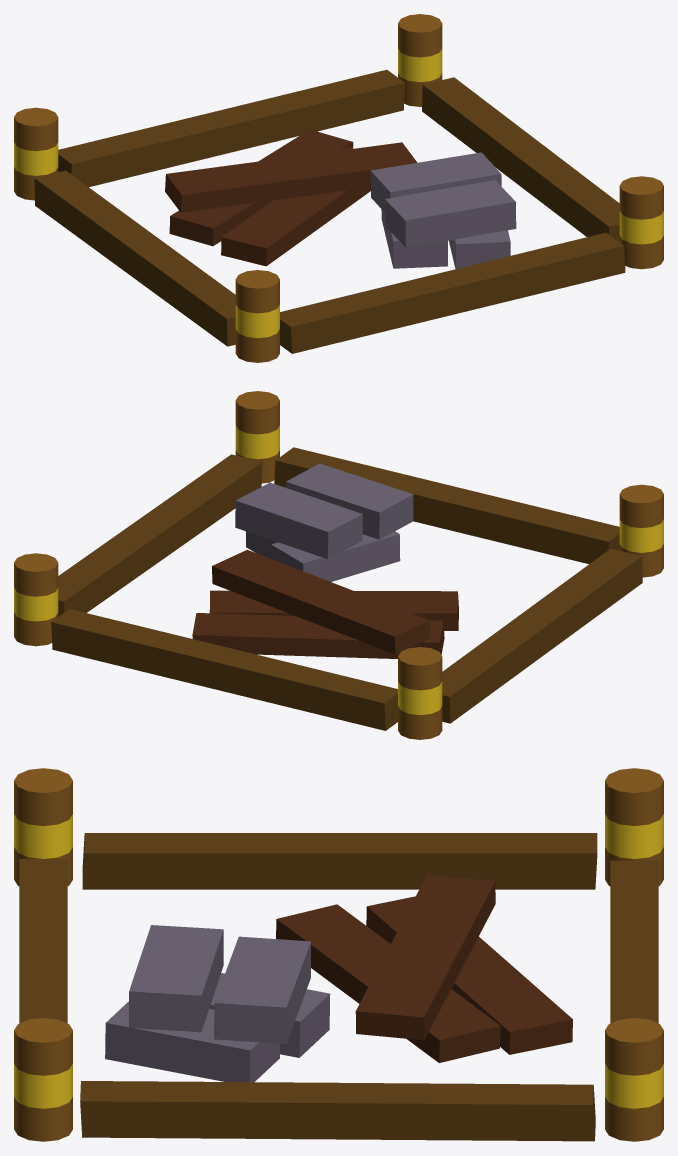
File: BuildingCamp.fbx
3 views of the same model, one above another, from view 1: azimuth 30°, elevation 25°; view 2: azimuth 150°, elevation 25°; view 3: azimuth 270°, elevation 25° (orthographic). The views are drawn at different scales.
Visible parts, largest first — view 1: BuildingCamp; view 2: BuildingCamp; view 3: BuildingCamp.
Part boxes in pixels (<box>): BuildingCamp: <box>14,14,663,362</box>; BuildingCamp: <box>14,391,663,739</box>; BuildingCamp: <box>14,768,663,1141</box>.
Size of the model in its own units: 220 by 36.95 by 220.
